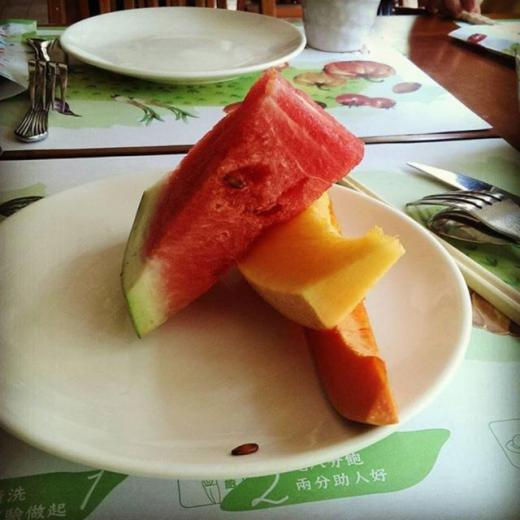Cherry: (119, 69, 364, 336)
